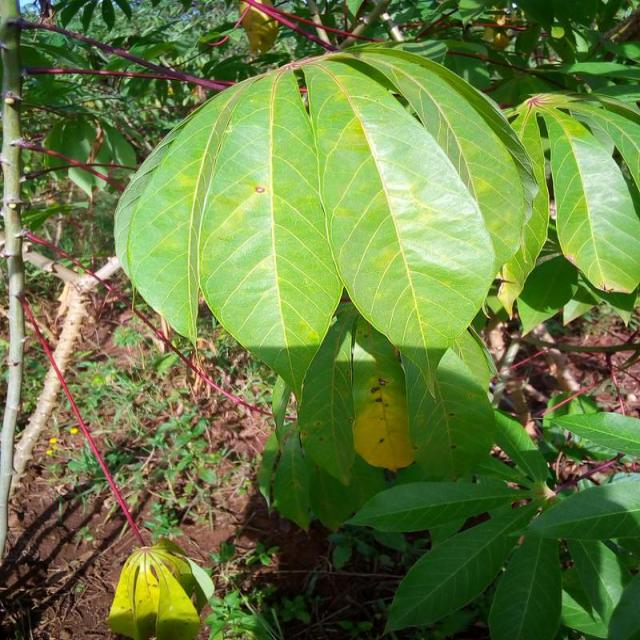cassava leaf: (113, 45, 543, 399), (301, 57, 497, 353)
